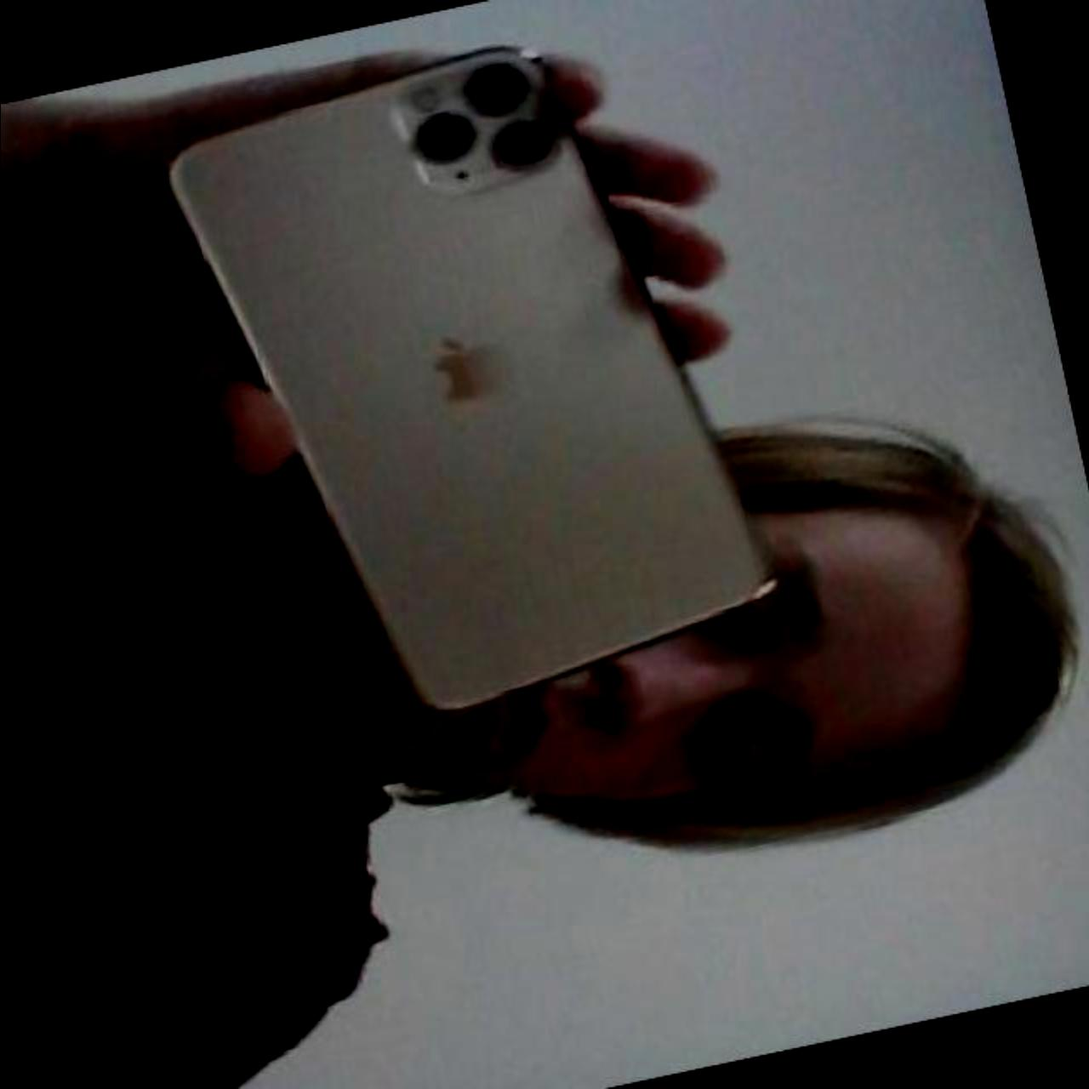phone: (162, 54, 789, 703)
